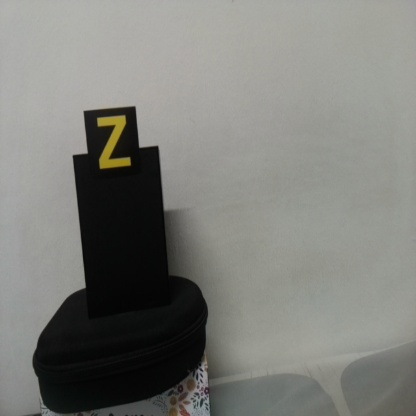id_15: (83, 110, 139, 181)
